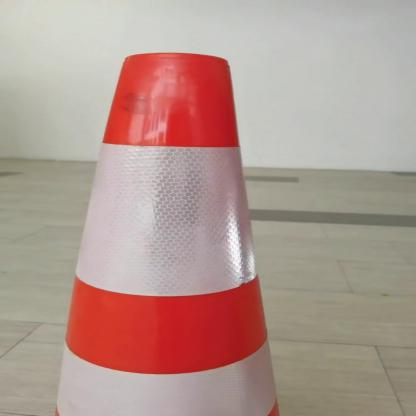cone: (35, 47, 286, 416)
